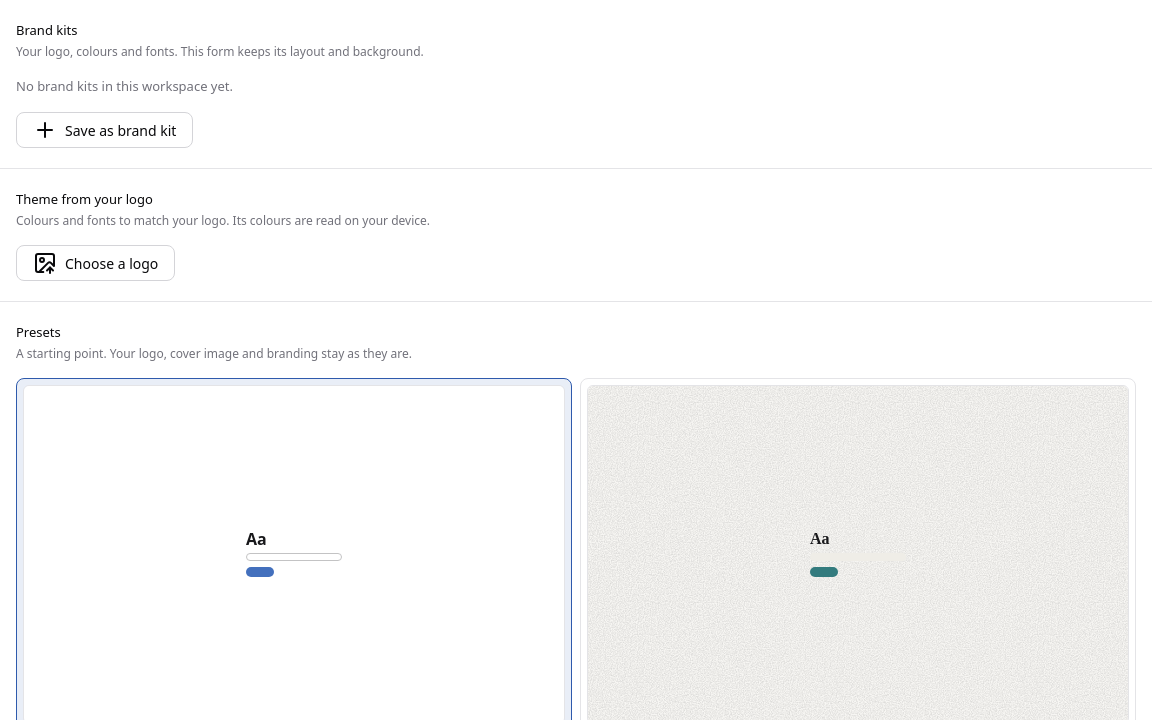
it: brand kits in the Design Studio › saves this form’s look as a kit, and as the default when asked
The width and height of the screenshot is (1152, 720).
Expected: the text "No brand kits in this workspace yet." is shown, 16,77 -> 233,95
Click the button "Save as brand kit" at (105, 130), box 16,112 -> 193,148
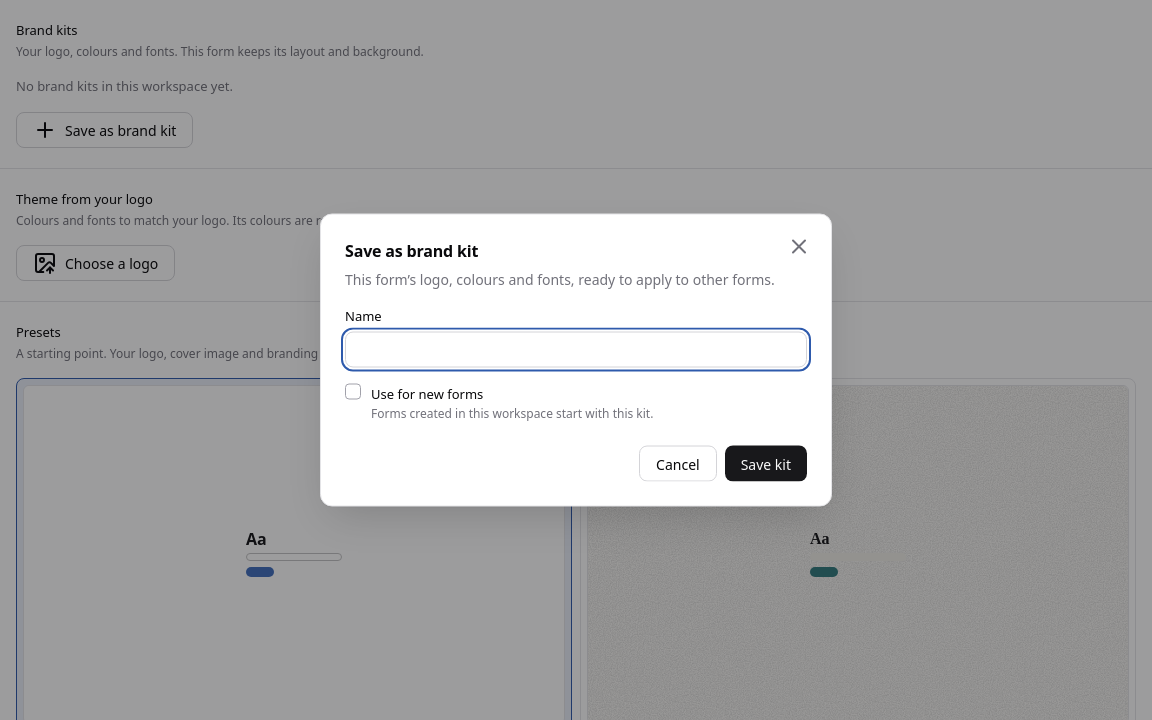
Type "Launch" into the field labelled "Name" at (576, 350), box 345,332 -> 807,368
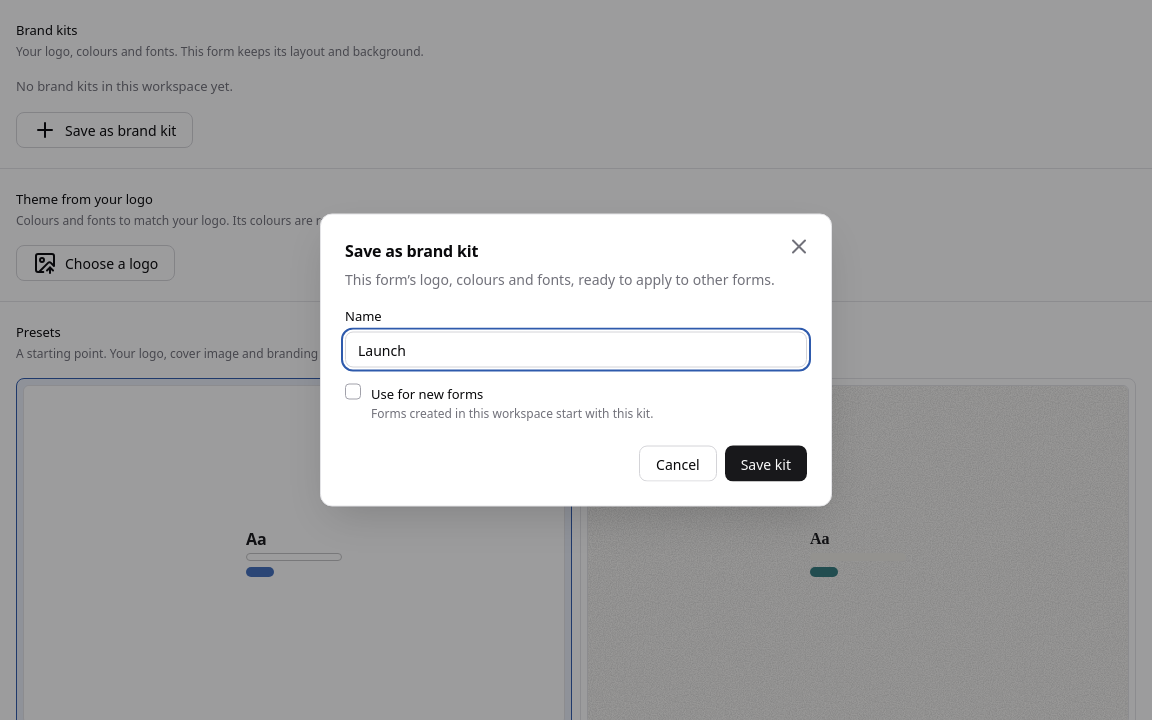
Click the checkbox named "Use for new forms" at (353, 392), box 345,384 -> 361,400
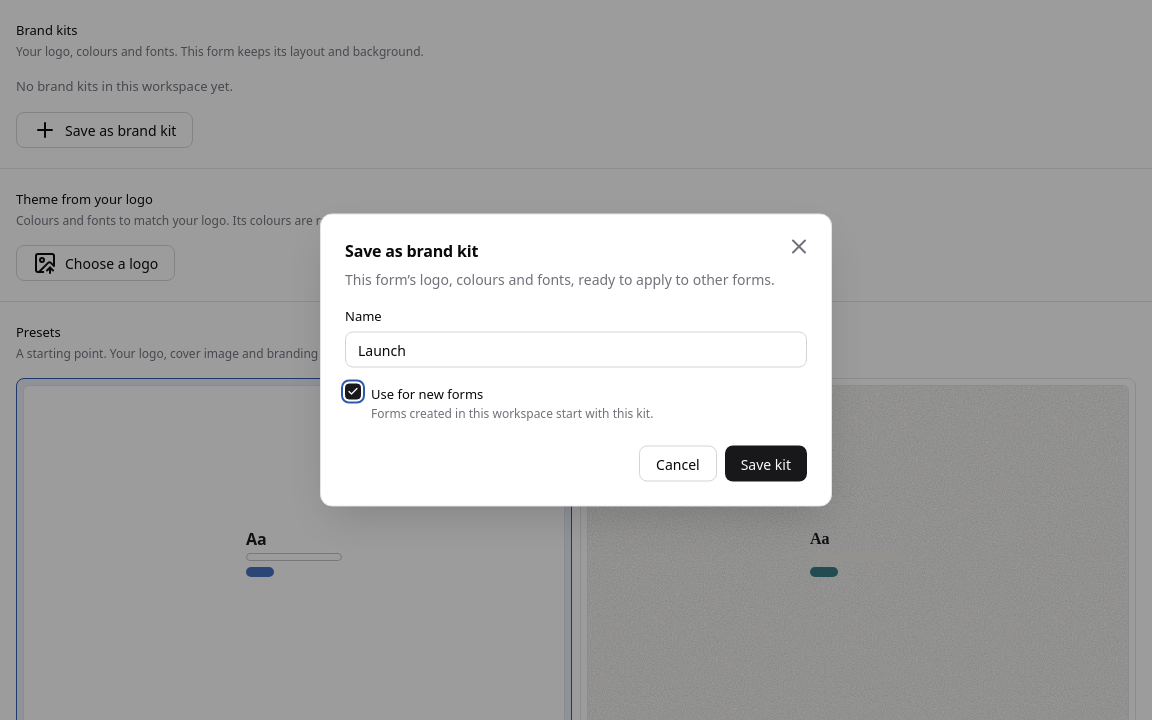
Click the button "Save kit" at (766, 464), box 725,446 -> 807,482
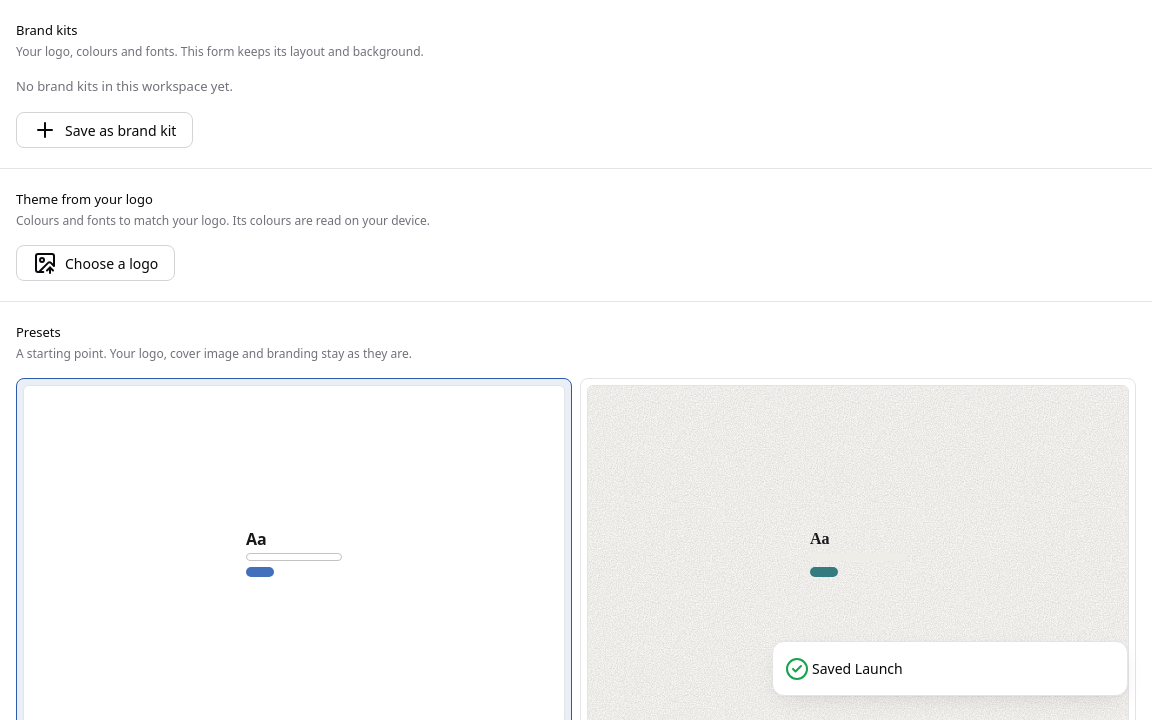
Result: the text "Saved Launch" is shown at 812,658 -> 903,679
